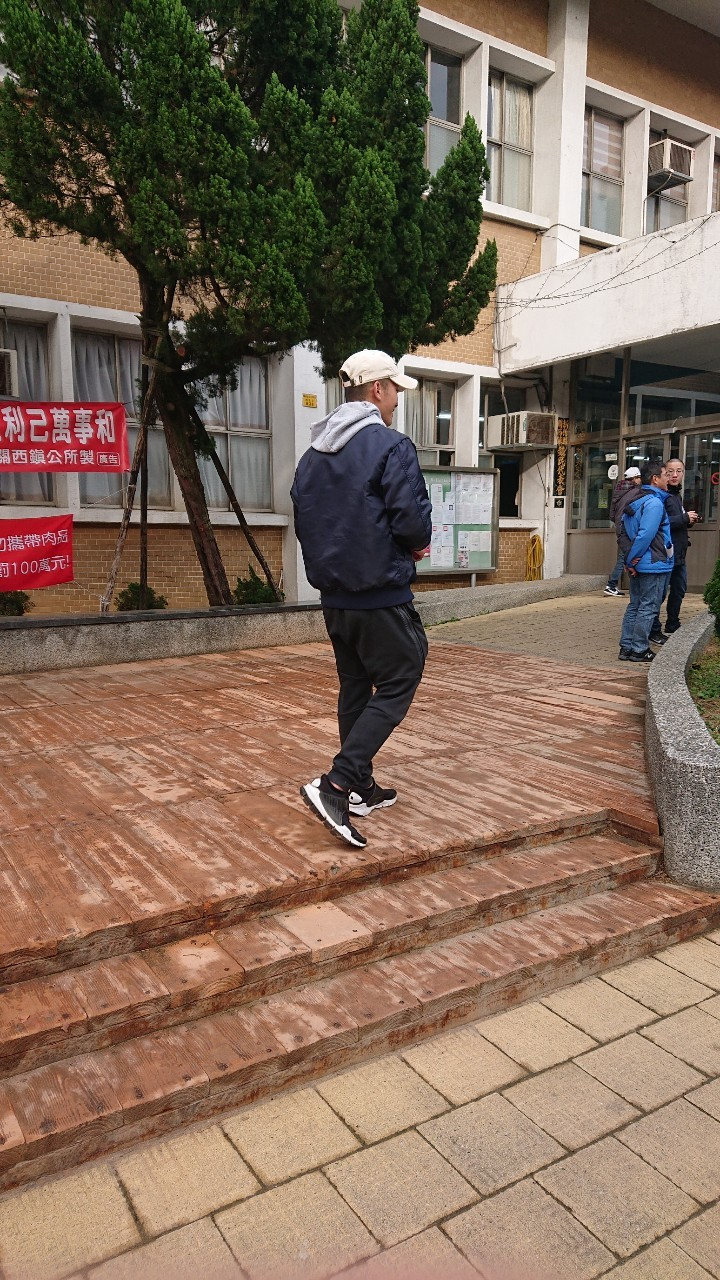people: (287, 345, 410, 849), (614, 449, 667, 672), (665, 451, 712, 643)
